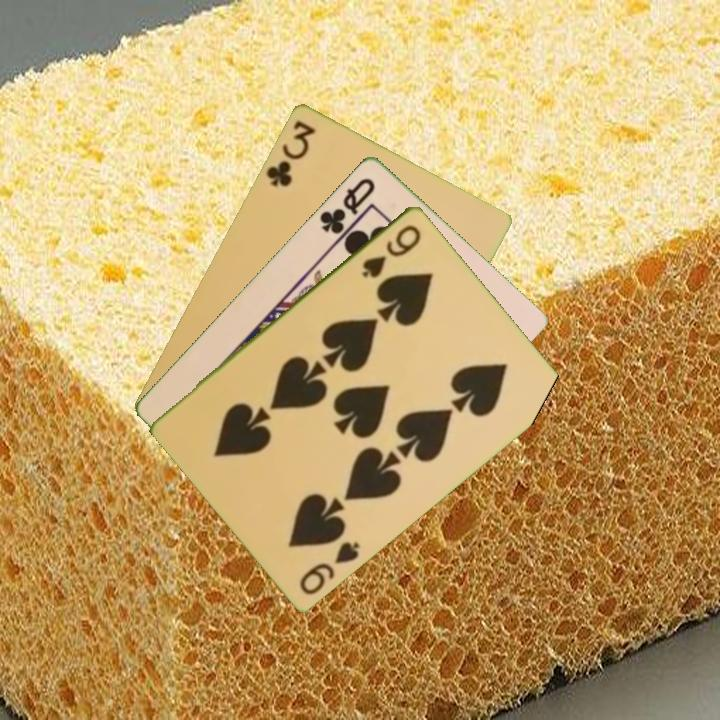3c: (262, 116, 319, 190)
9s: (295, 537, 363, 598), (358, 220, 424, 281)
Qc: (315, 173, 378, 245)
